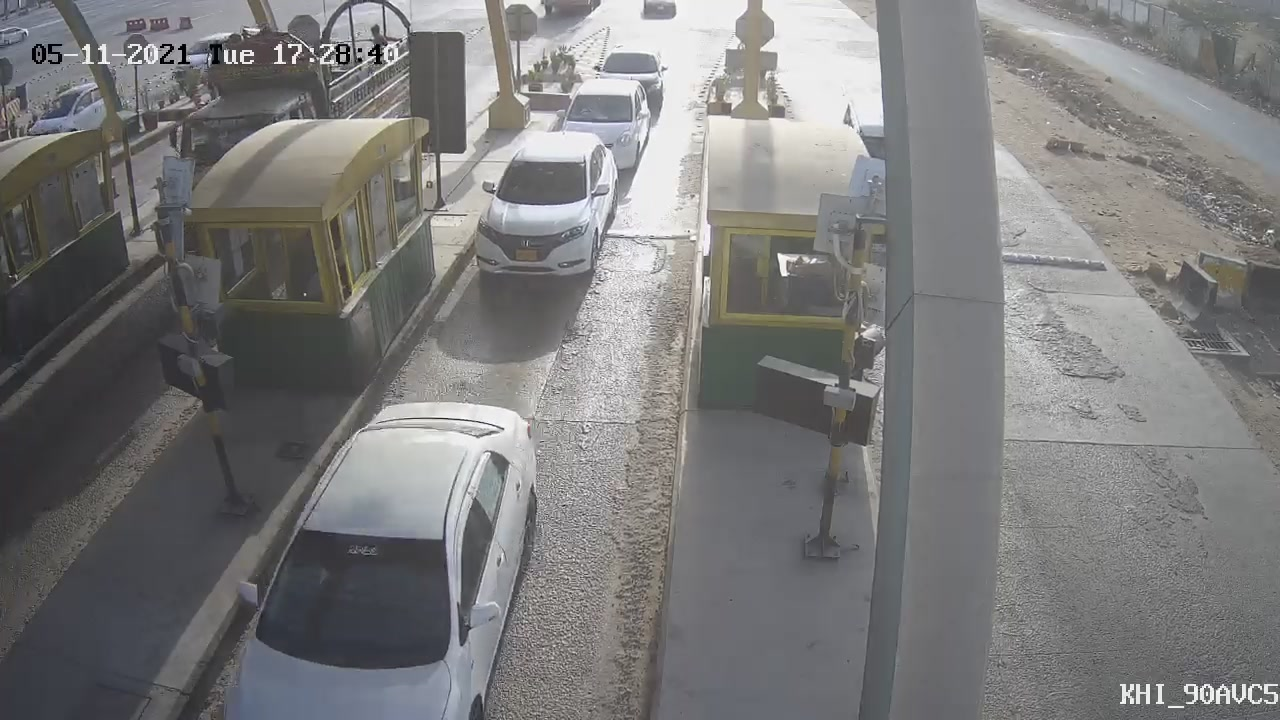F1: (455, 121, 631, 296)
